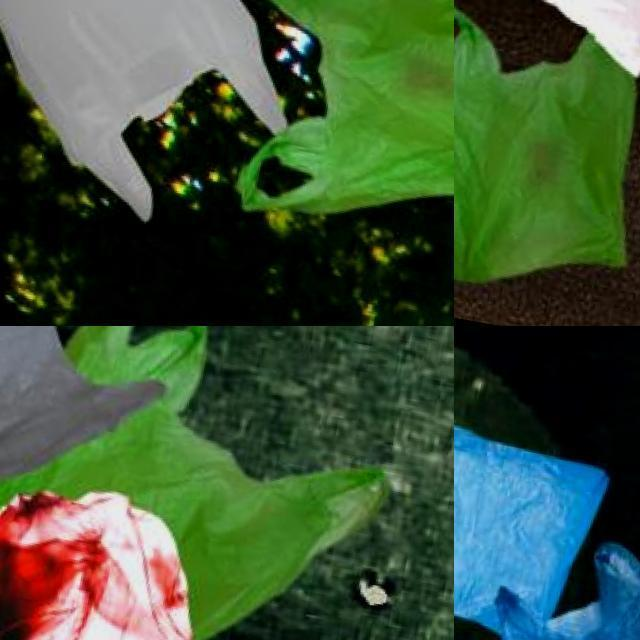waste: (0, 326, 403, 640), (0, 0, 310, 228), (199, 0, 454, 265), (454, 0, 640, 306), (454, 396, 610, 640), (0, 326, 182, 508), (470, 503, 640, 640), (454, 0, 640, 79)
